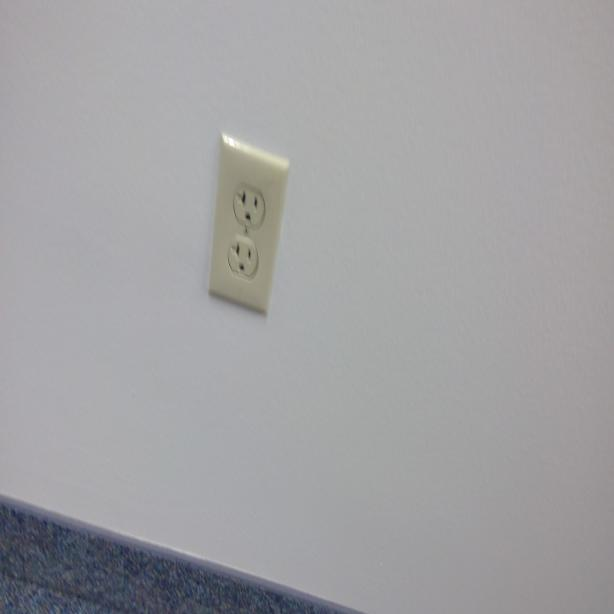typeb: (234, 185, 266, 227), (229, 236, 257, 284)
